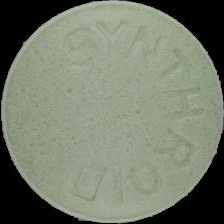66336-342: (0, 0, 224, 224)
